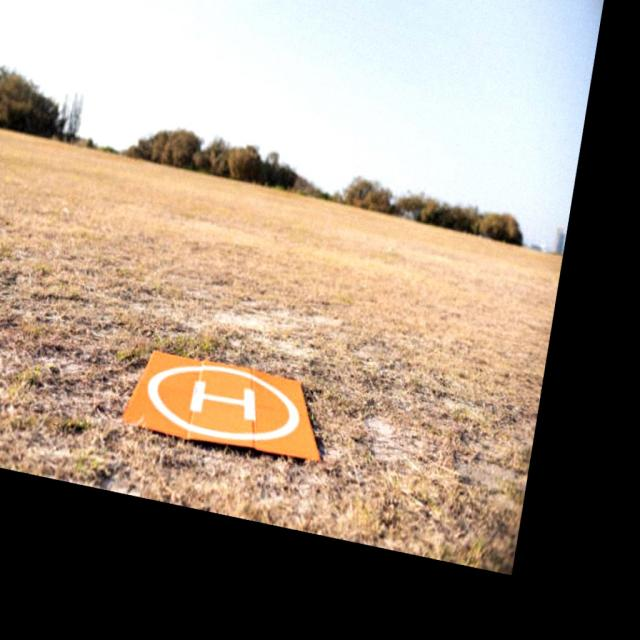helipad: (144, 362, 304, 442)
